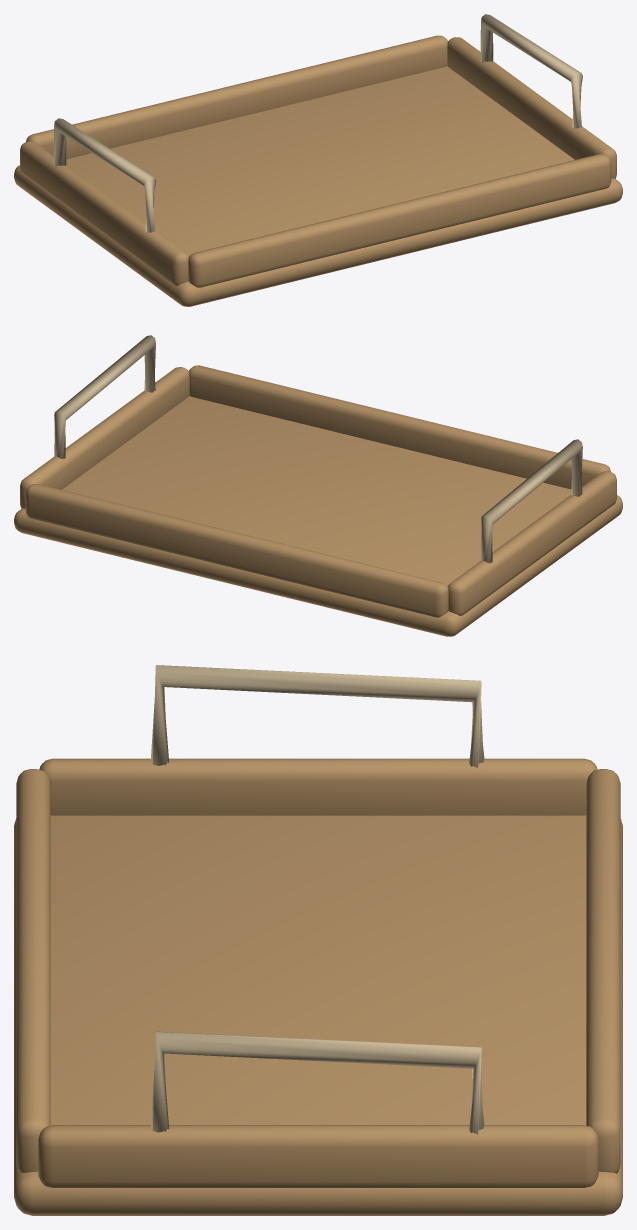
The model's file is serving_tray.glb.
The picture shows the model from 3 angles, top to bottom: view 1: azimuth 30°, elevation 25°; view 2: azimuth 150°, elevation 25°; view 3: azimuth 270°, elevation 25°; orthographic projection. The views are drawn at different scales.
Visible parts, largest first — view 1: serving_tray__body, serving_tray__accent; view 2: serving_tray__body, serving_tray__accent; view 3: serving_tray__body, serving_tray__accent.
Boxes of the visible parts, <box> form: serving_tray__body: <box>14,35,622,306</box>; serving_tray__accent: <box>53,14,582,232</box>; serving_tray__body: <box>14,365,622,636</box>; serving_tray__accent: <box>54,335,582,563</box>; serving_tray__body: <box>14,758,622,1215</box>; serving_tray__accent: <box>150,665,484,1134</box>.
Size of the model in its own units: 0.37 by 0.0827 by 0.25.
